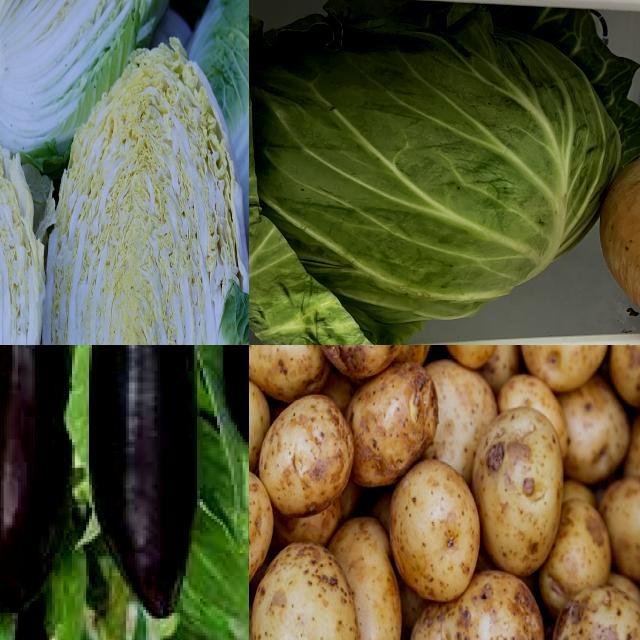cabbage: (250, 1, 640, 346), (41, 39, 250, 346), (1, 1, 164, 151), (193, 1, 250, 346)
eggplant: (90, 346, 198, 611), (1, 346, 61, 608)
potato: (475, 412, 563, 575), (387, 453, 479, 608), (255, 398, 348, 510), (255, 544, 360, 640), (409, 578, 549, 640), (250, 346, 332, 409), (553, 584, 640, 640), (526, 346, 613, 395), (318, 346, 413, 385)
